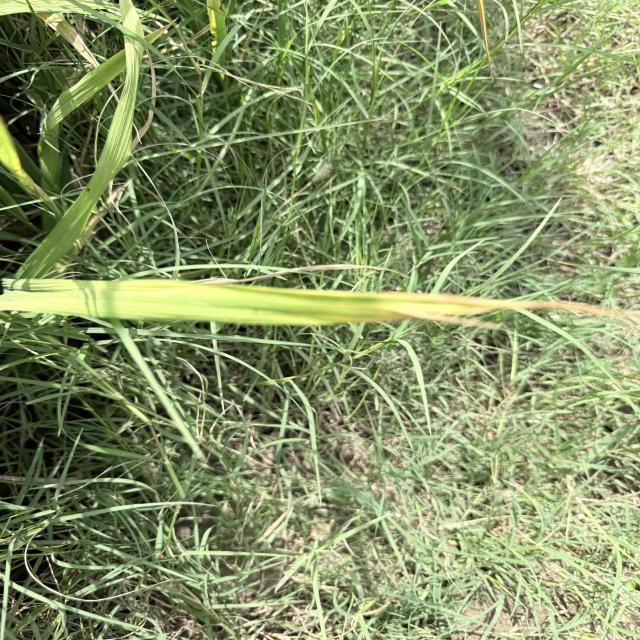Chay bia la: (315, 290, 633, 327)
